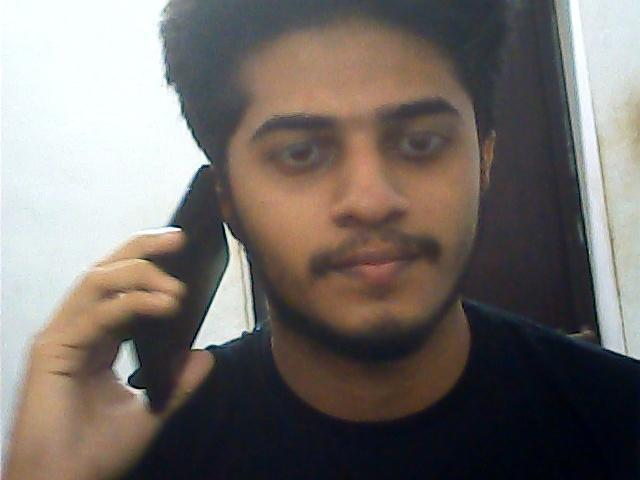PhoneUse: (135, 158, 227, 402)
SafeDriving: (257, 126, 347, 178), (378, 116, 462, 170)
